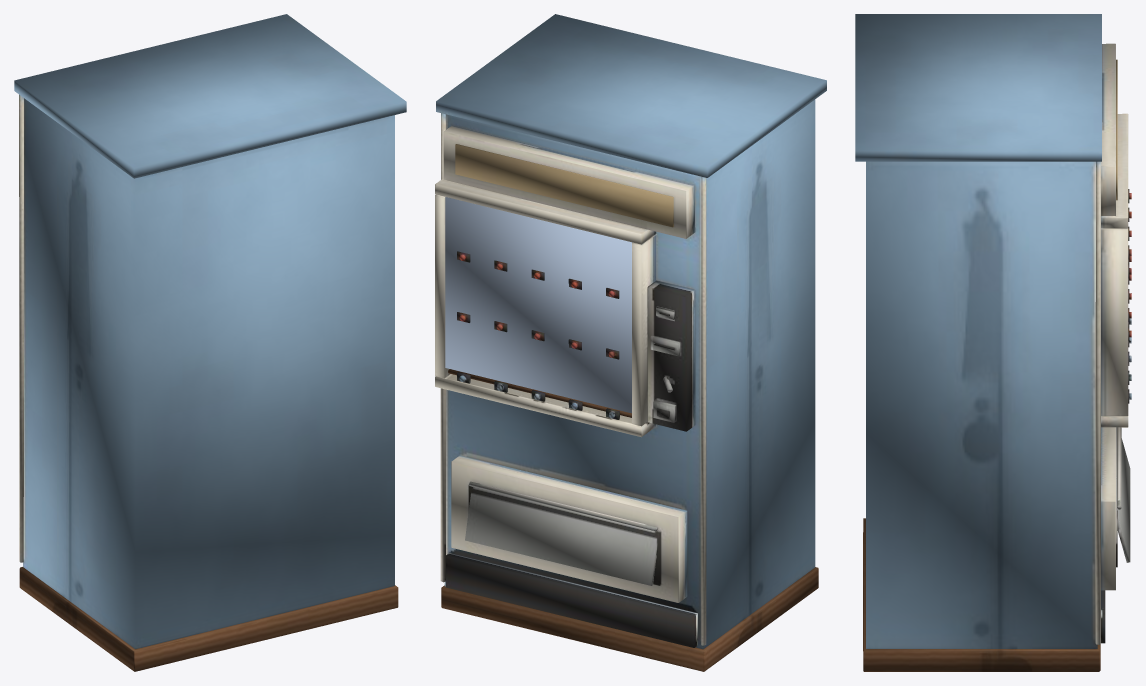
File: vending_blue.glb
3 views of the same model, side by side, from view 1: azimuth 30°, elevation 25°; view 2: azimuth 150°, elevation 25°; view 3: azimuth 270°, elevation 25° (orthographic). The views are drawn at different scales.
Visible parts, largest first — view 1: prop_vending_blue_felt, prop_vending_blue_wood; view 2: prop_vending_blue_felt, prop_vending_blue_glass, prop_vending_blue_wood, prop_vending_blue_paper; view 3: prop_vending_blue_felt, prop_vending_blue_wood.
Part boxes in pixels (left/top/right/bottom): prop_vending_blue_felt: left=14, top=14, right=406, bottom=649; prop_vending_blue_wood: left=19, top=567, right=398, bottom=671; prop_vending_blue_felt: left=435, top=14, right=826, bottom=649; prop_vending_blue_glass: left=445, top=197, right=632, bottom=413; prop_vending_blue_wood: left=441, top=369, right=818, bottom=671; prop_vending_blue_paper: left=455, top=144, right=673, bottom=227; prop_vending_blue_felt: left=855, top=14, right=1131, bottom=648; prop_vending_blue_wood: left=863, top=518, right=1100, bottom=671.
Bounding box in the file's own units: 2.1 × 3.74 × 1.79.
4 materials, 3 textured.
